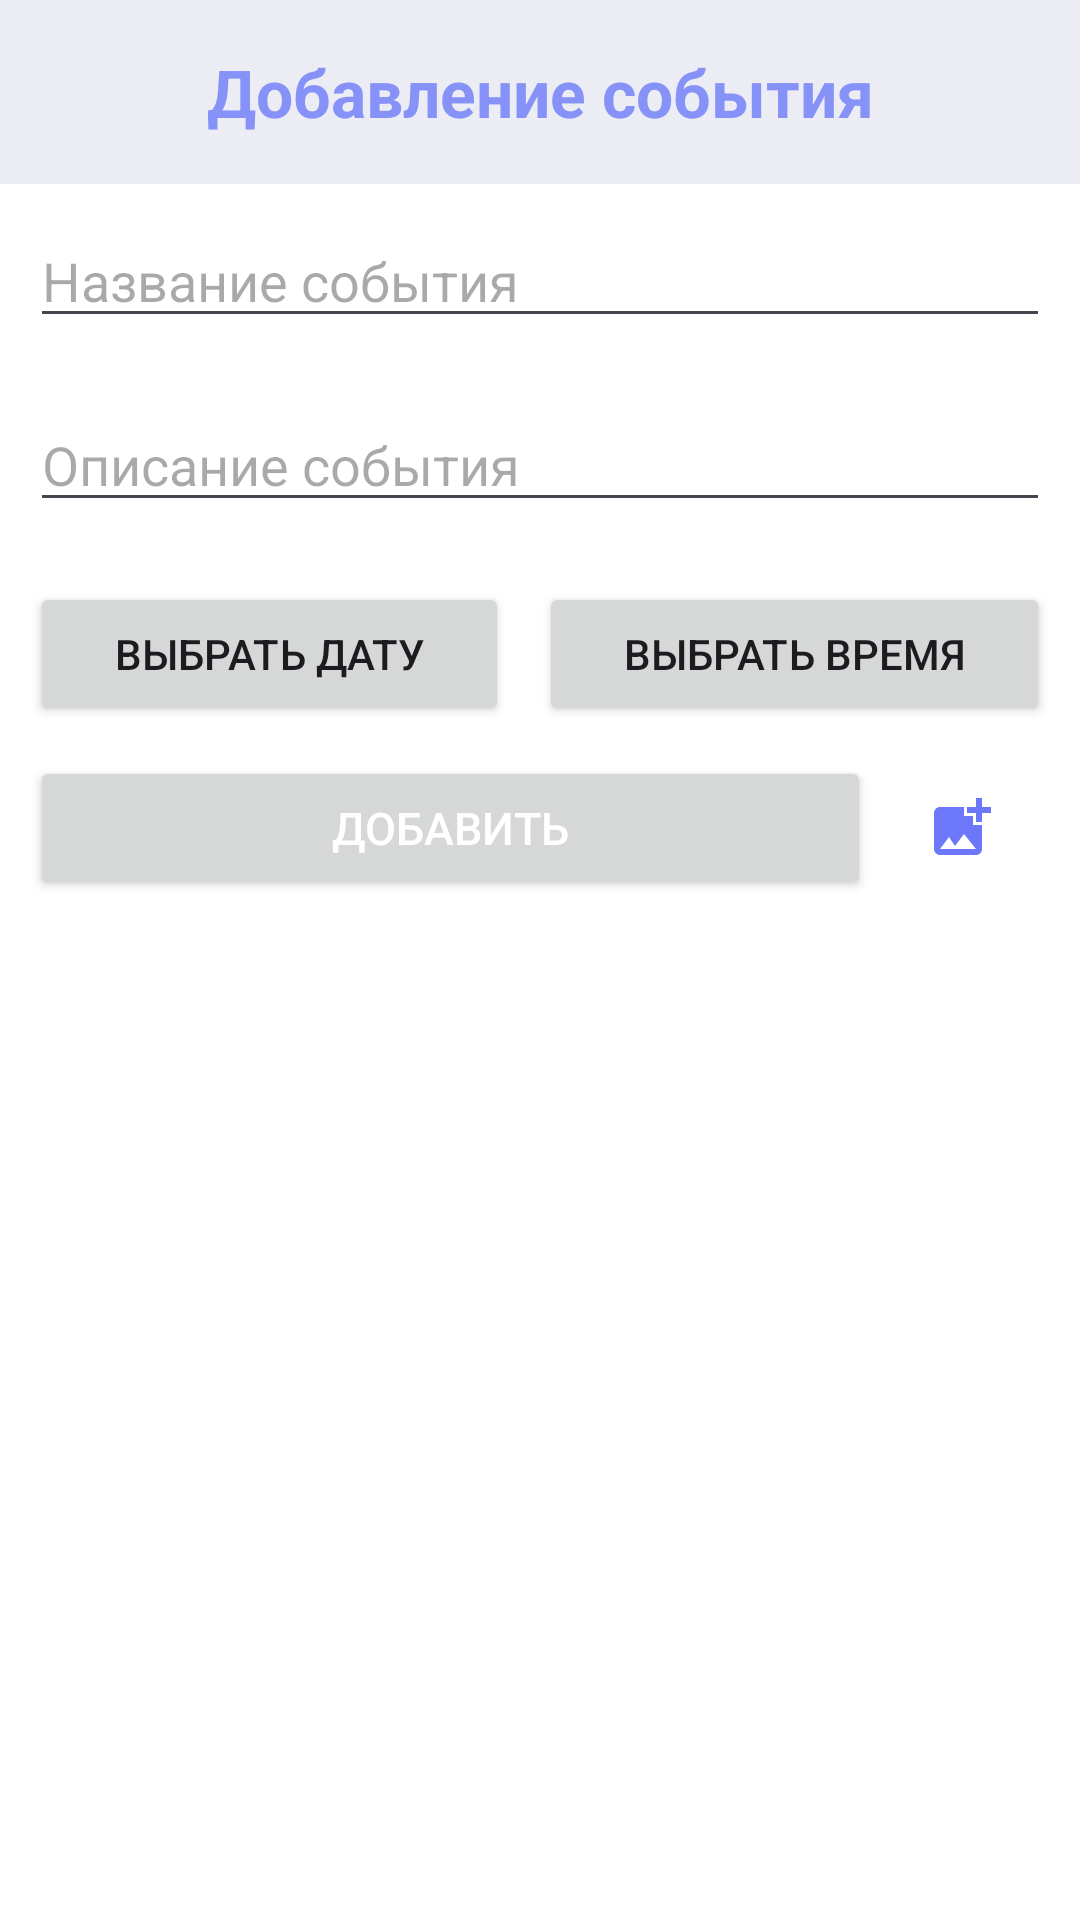

Where to tap for icons on this 1080px×1920px app screen, as [x,y]:
add photo: [962,826]
